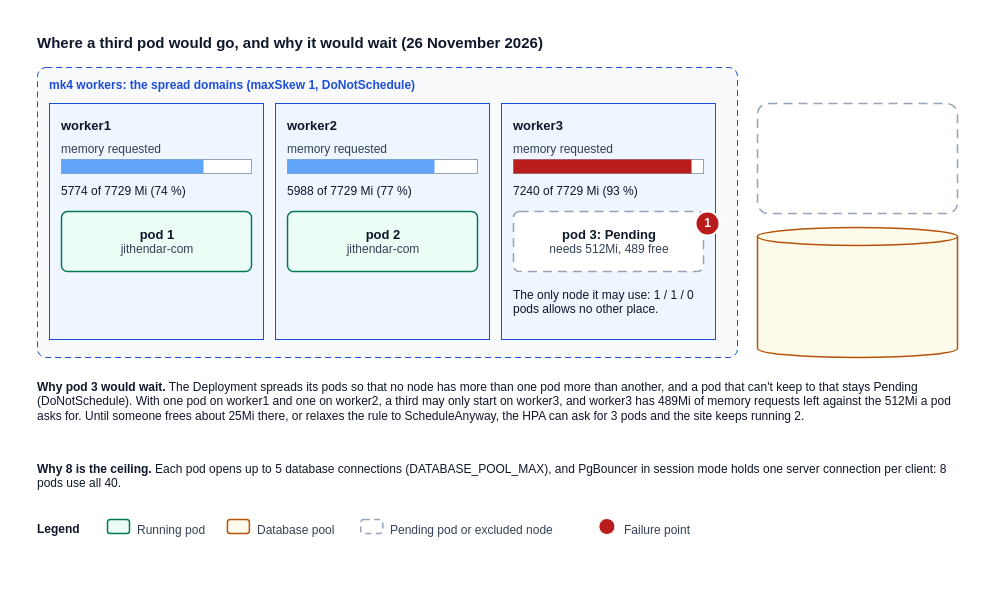
The diagram is 994 pixels wide and 594 high, and some of its shapes have lost their labels. Here are the shapes that lost their labels. From the top down, the centre of each, then its label:
At point (857, 158): "master1 tainted, so not a spread domain (nodeTaintsPolicy Honor)".
At point (857, 292): "PgBouncer session mode 2 poolers × 20 = 40 8 pods × 5 = 40 so at most 8 pods".
